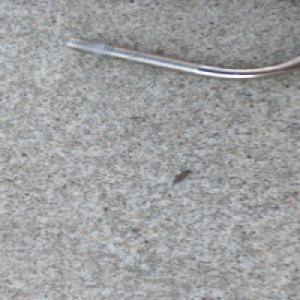ClampPart: (62, 32, 300, 82)
